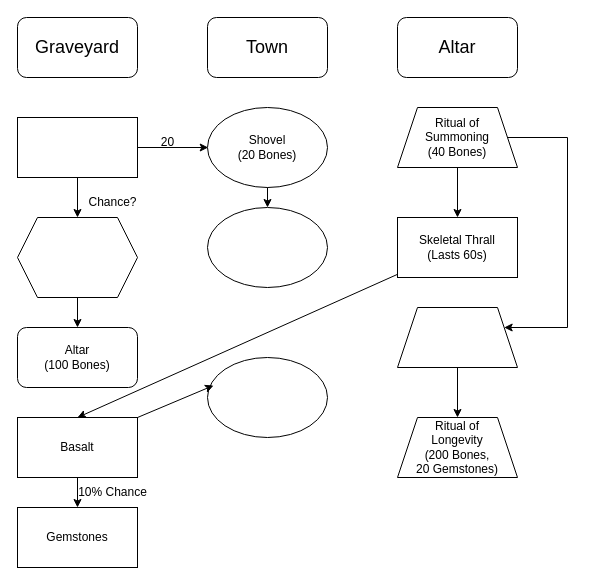
Some shapes in this 593 by 585 pixel diagram are drawn without their labels. Here are the shapes that lost their labels. From the top down, the centre of each, then its label:
At pixel 77 147: "Bones".
At pixel 77 257: "Amulet".
At pixel 267 247: "Cart (50 Bones)".
At pixel 457 337: "Ritual of Strength (80 Bones, 10 Gemstones)".
At pixel 267 397: "Pickaxe (can mine stone) (5 Gemstones)".
